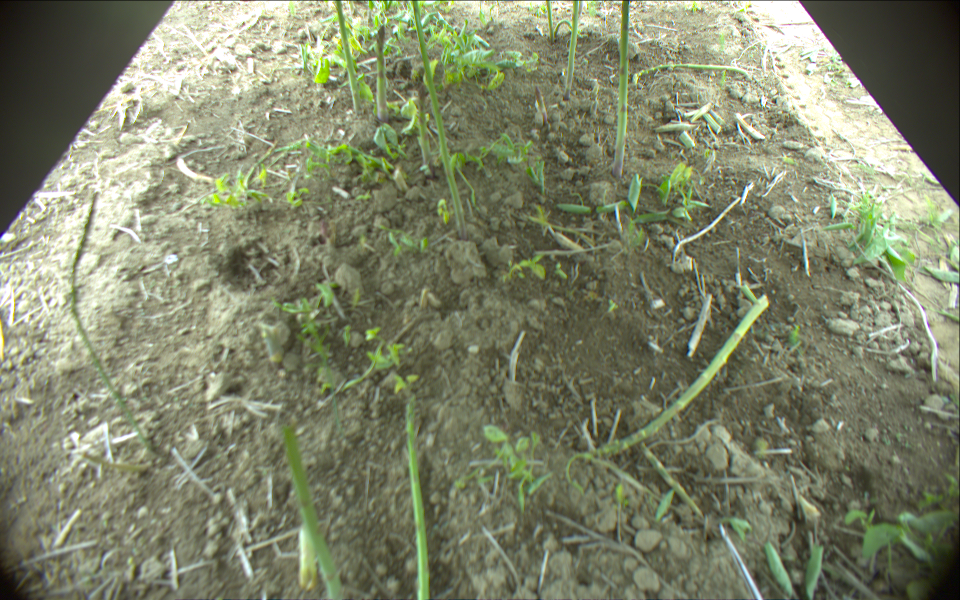aspa: (585, 294, 767, 459), (70, 192, 158, 452), (409, 1, 468, 243), (278, 427, 348, 600), (405, 395, 432, 600), (639, 444, 700, 516), (334, 1, 362, 113), (612, 1, 630, 175), (633, 61, 752, 82), (72, 452, 154, 472), (566, 1, 581, 98), (376, 25, 388, 122), (554, 19, 584, 42), (545, 1, 555, 44)
